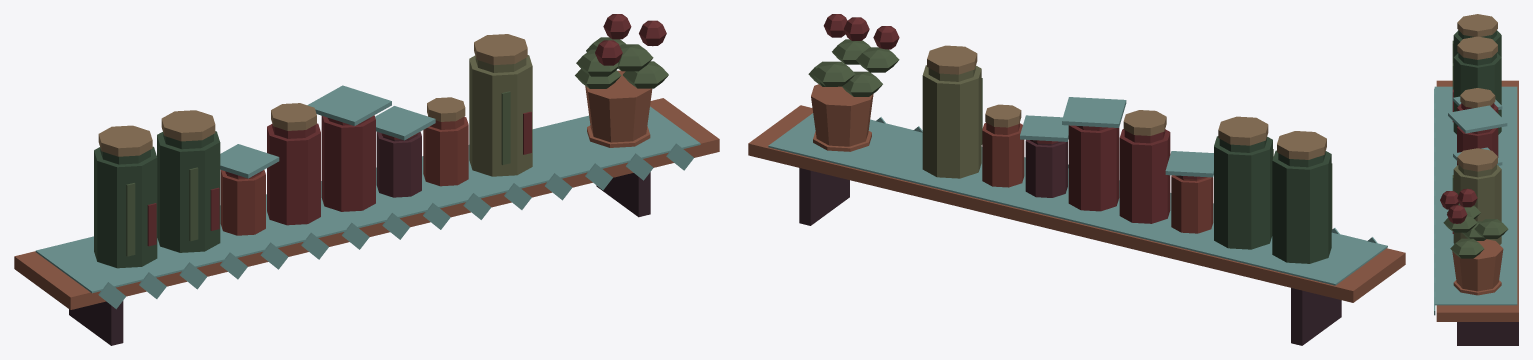
File: raft_borcane.glb
3 views of the same model, side by side, from view 1: azimuth 30°, elevation 25°; view 2: azimuth 150°, elevation 25°; view 3: azimuth 270°, elevation 25° (orthographic). The views are drawn at different scales.
Parts seen in each view (by area): view 1: RaftBorcane; view 2: RaftBorcane; view 3: RaftBorcane.
Part boxes in pixels (left/top/right/bottom): RaftBorcane: left=14, top=14, right=719, bottom=345; RaftBorcane: left=748, top=14, right=1405, bottom=345; RaftBorcane: left=1434, top=14, right=1518, bottom=345.
Size of the model in its own units: 1.6 by 0.475 by 0.247.
